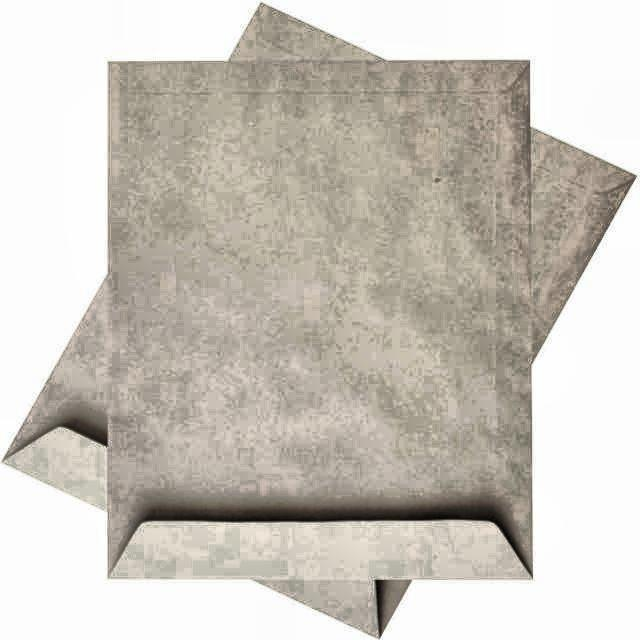cardboard: (2, 6, 636, 639), (107, 60, 534, 583)
